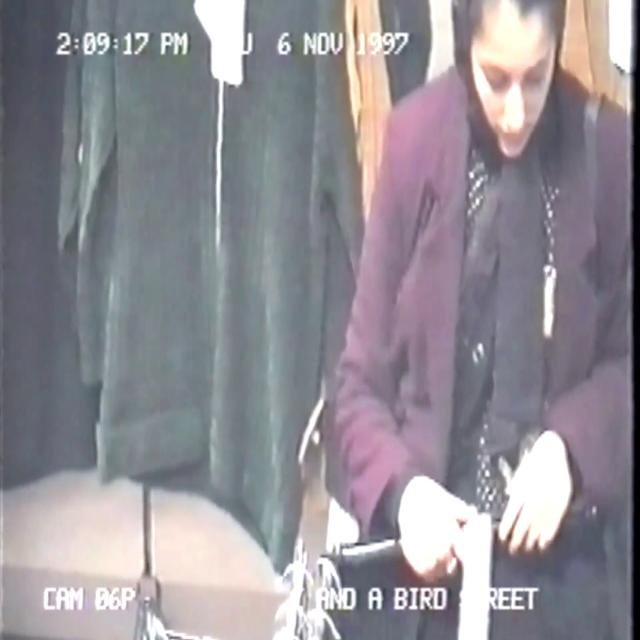Product: (338, 529, 529, 640)
shoplifting: (315, 0, 640, 640)
